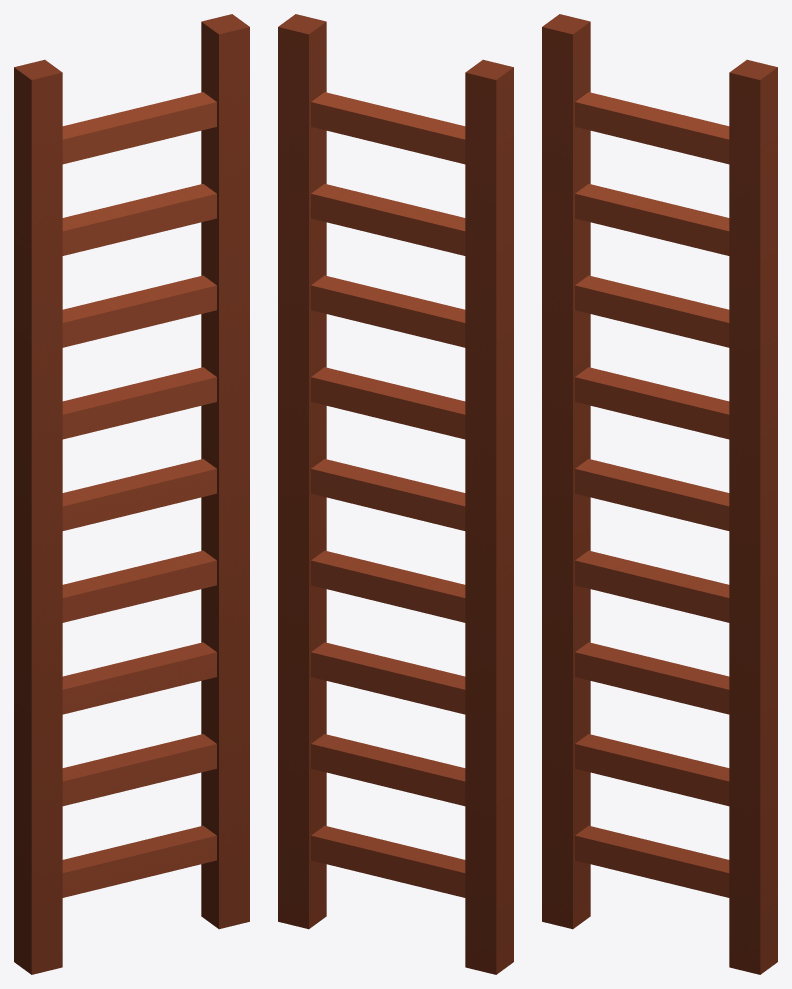
Rendered from Ladder.obj.
3 views of the same model, side by side, from view 1: azimuth 30°, elevation 25°; view 2: azimuth 150°, elevation 25°; view 3: azimuth 330°, elevation 25° (orthographic).
Visible parts, largest first — view 1: Cube.001; view 2: Cube.001; view 3: Cube.001.
Boxes of the visible parts, bbox=[...] form: Cube.001: bbox=[14, 14, 249, 974]; Cube.001: bbox=[278, 14, 513, 974]; Cube.001: bbox=[542, 14, 777, 974].
Size of the model in its own units: 0.8923 by 3.5 by 0.1251.
